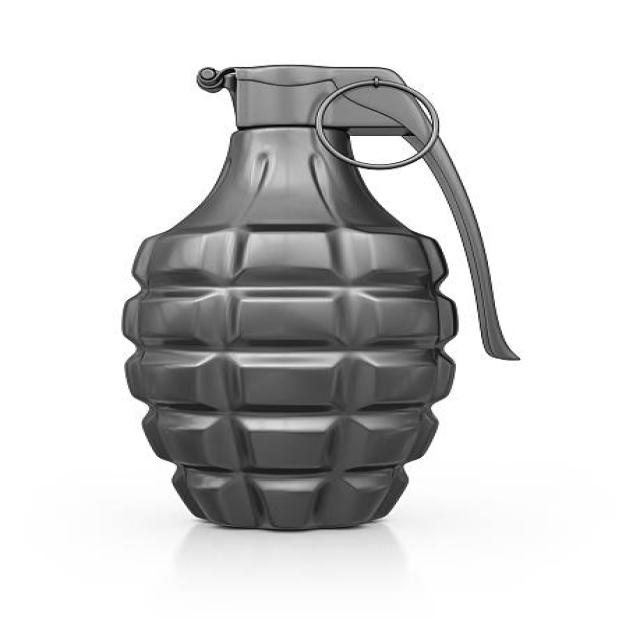grenade: (120, 60, 531, 535)
